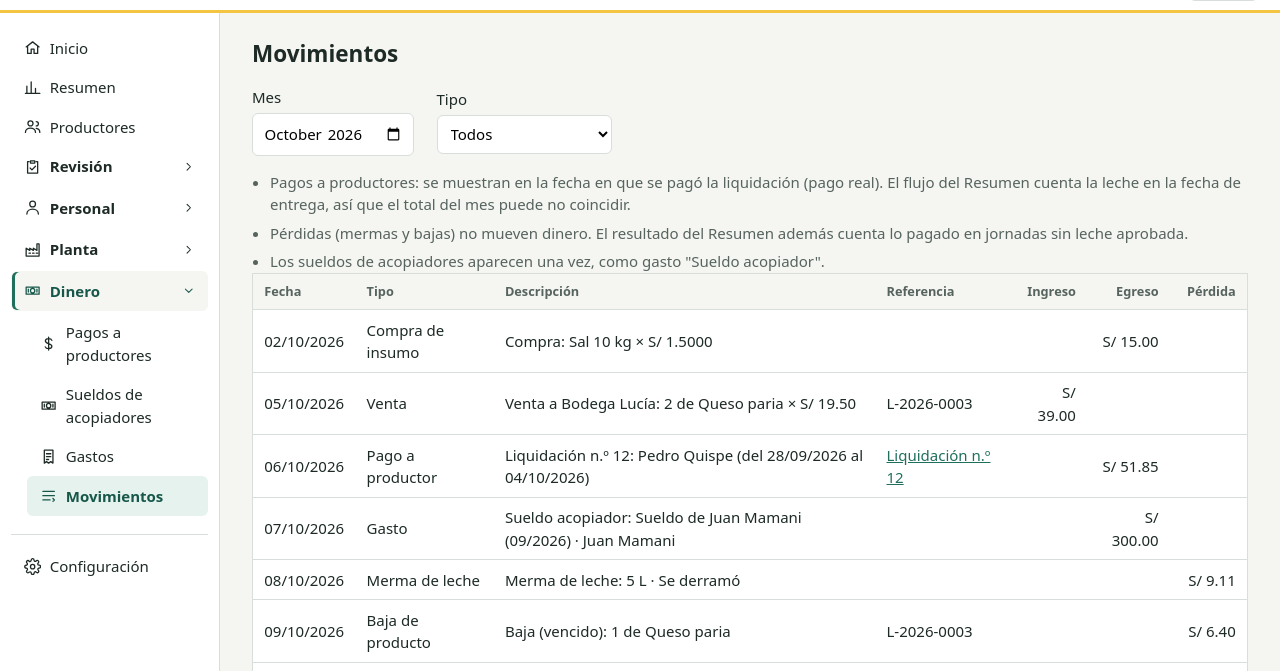
it: movimientos › el mes actual en Lima: filas en su columna, totales, las tres notas y el enlace a la liquidación
expect the list item "se muestran en la fecha en que se pagó la liquidación (pago real)" shows "El flujo del Resumen cuenta la leche en la fecha de entrega, así que el total del mes puede no coincidir.": met, box left=270, top=172, right=1241, bottom=214
expect the list item "Pérdidas (mermas y bajas) no mueven dinero" shows "El resultado del Resumen además cuenta lo pagado en jornadas sin leche aprobada.": met, box left=270, top=223, right=1188, bottom=243
Click the link "Liquidación n.º 12" at (938, 455), box left=886, top=445, right=990, bottom=487
(page scrolled)
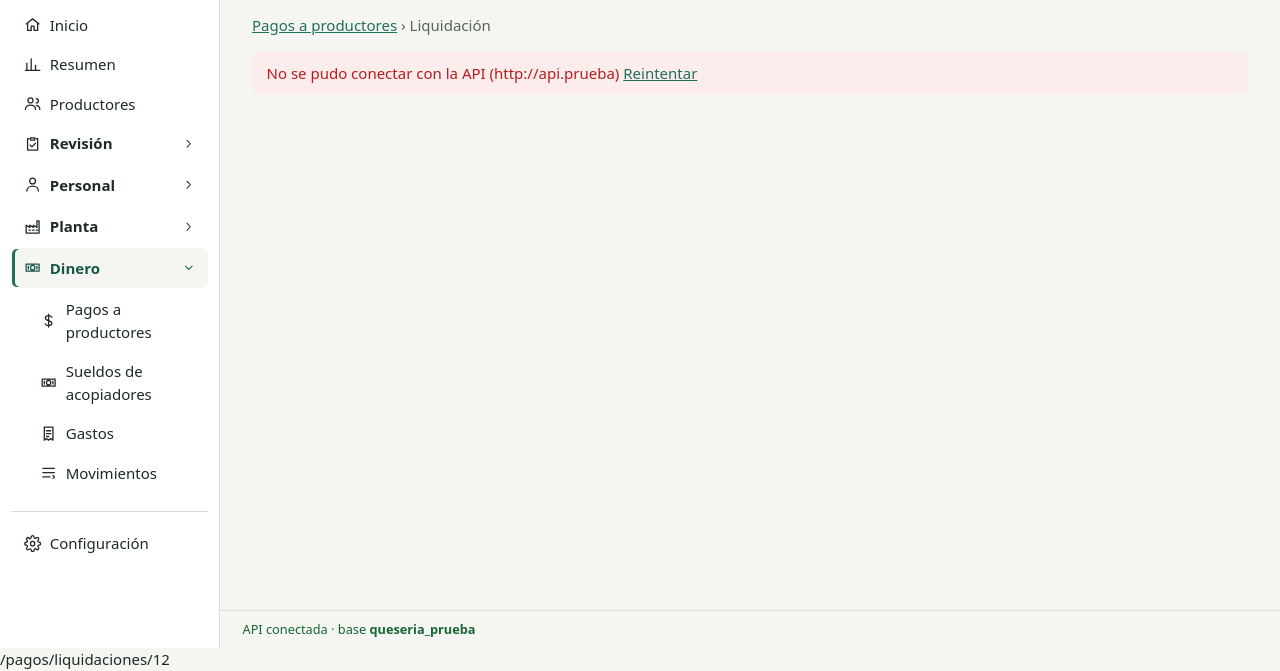
expect the text with test id "ubicacion" reads "/pagos/liquidaciones/12": met, box left=0, top=649, right=170, bottom=669
